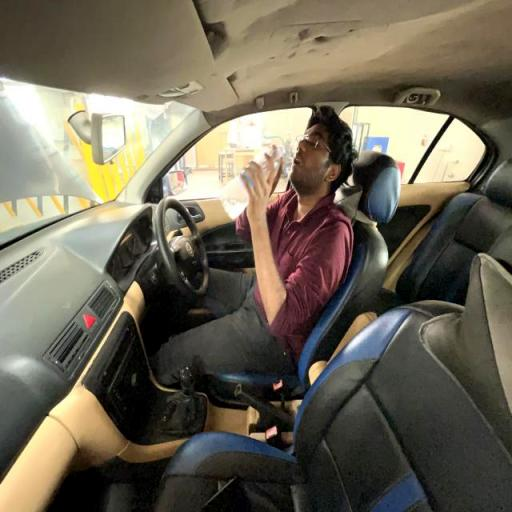Drinking: (214, 106, 358, 350)
